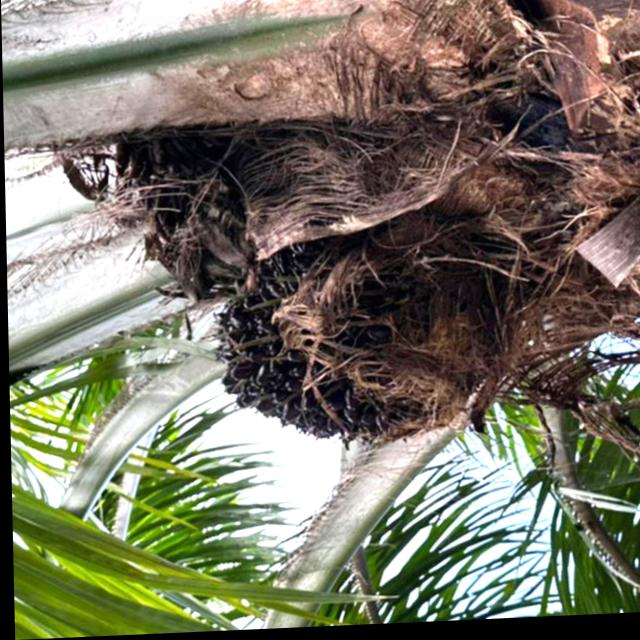almost: (204, 222, 491, 456)
